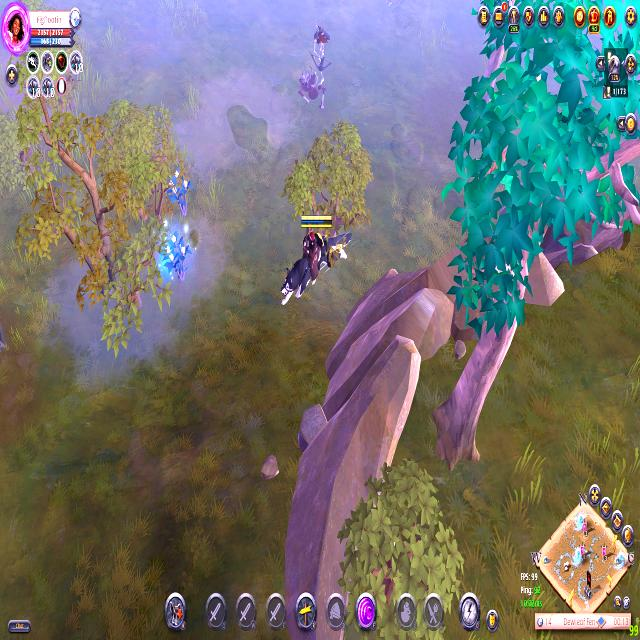hide: (157, 225, 190, 294), (161, 160, 194, 222)
ore: (309, 22, 333, 94)
red: (279, 213, 355, 311)
wisp caged: (420, 0, 640, 486)
